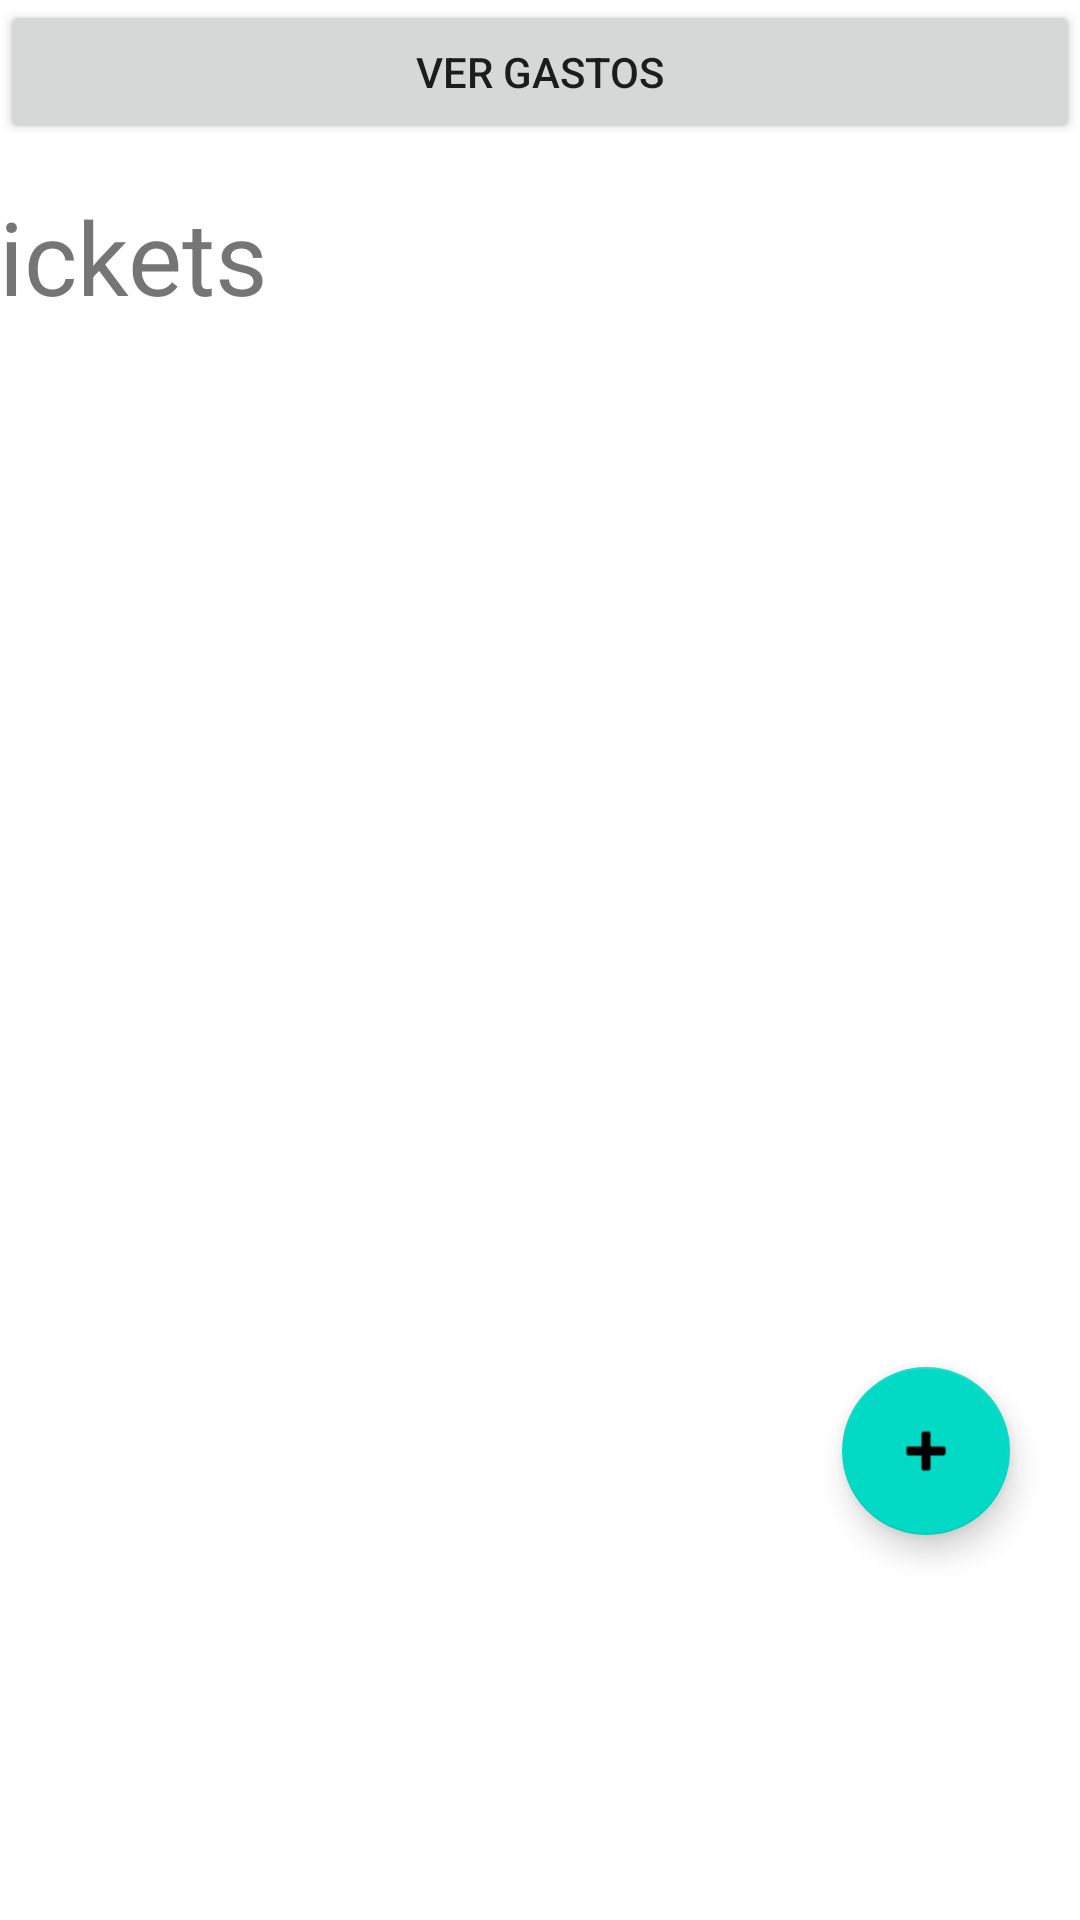

Screen size 1080x1920. Icon name, then its box in pixels as (x1, y1, x2, y2):
add: (842, 1367, 1010, 1535)
